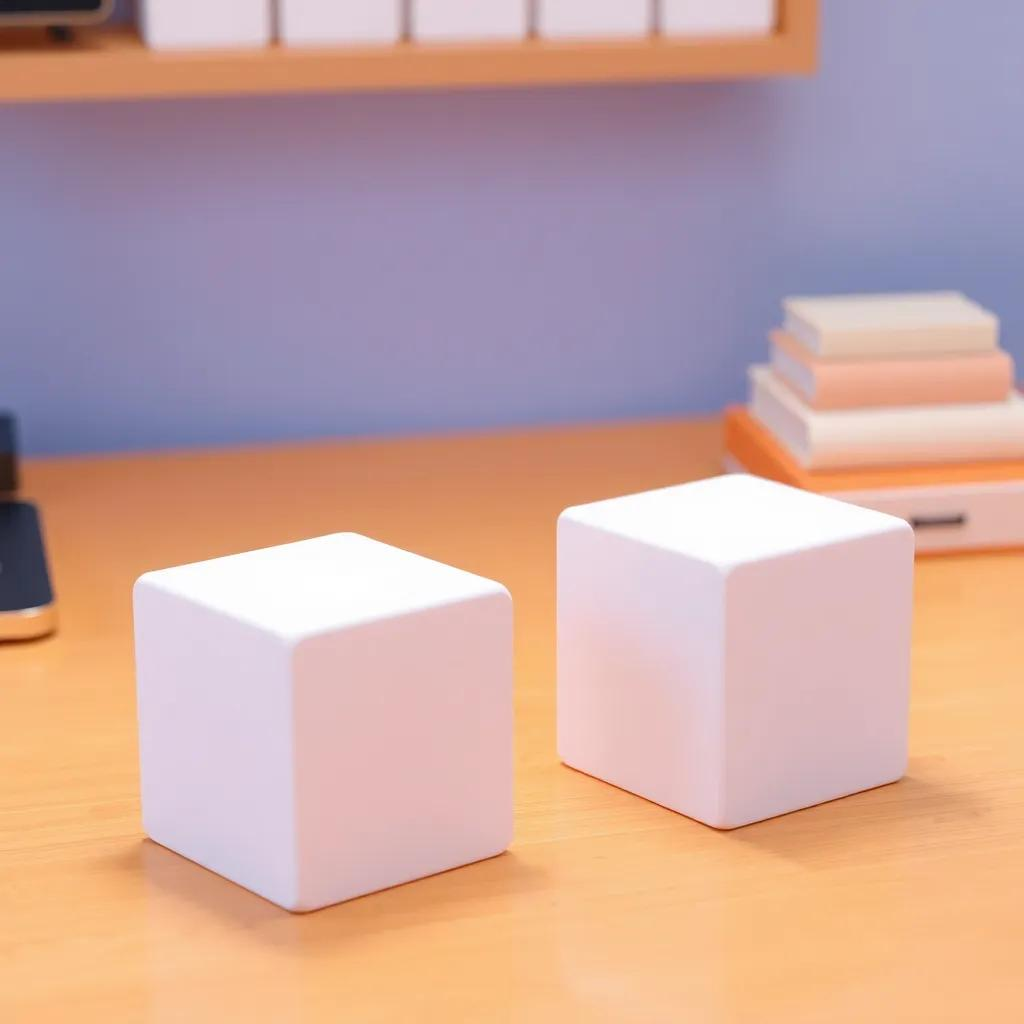cube: (131, 528, 515, 913), (555, 471, 914, 830)
